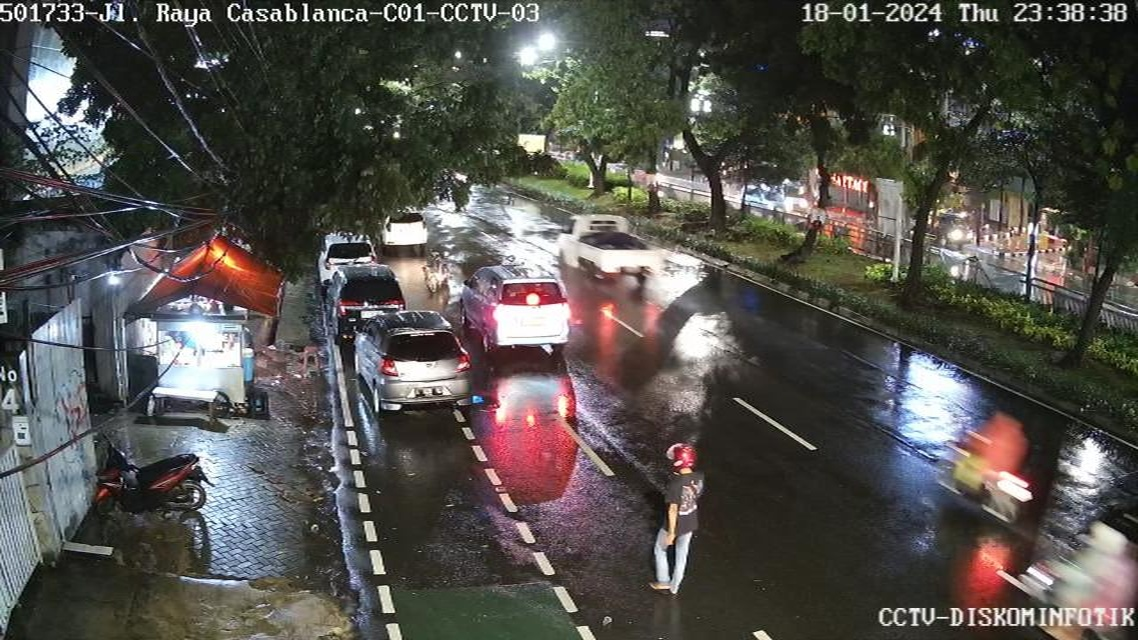Gerobak: (146, 306, 270, 416)
